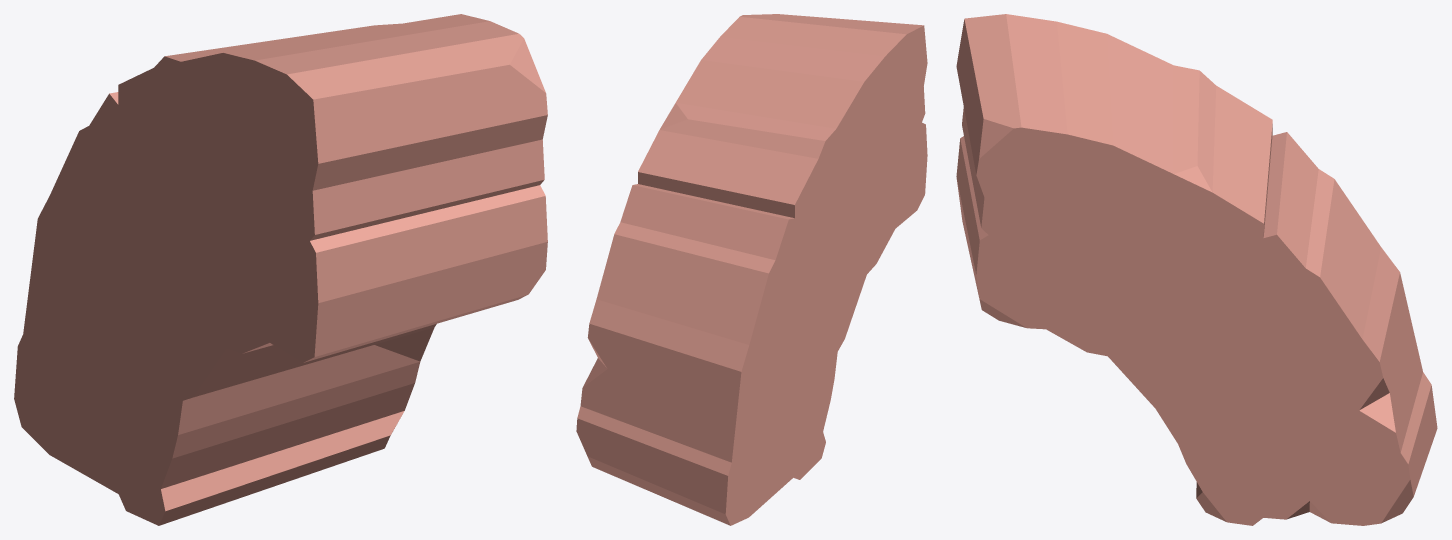
Rendered from SuperGrid_RingQuarter_016_Vlad.fbx.
The picture shows the model from 3 angles, left to right: view 1: azimuth 30°, elevation 25°; view 2: azimuth 150°, elevation 25°; view 3: azimuth 270°, elevation 25°; orthographic projection. The views are drawn at different scales.
Parts seen in each view (by area): view 1: SuperGrid_RingQuarter.016; view 2: SuperGrid_RingQuarter.016; view 3: SuperGrid_RingQuarter.016.
Part boxes in pixels (x1=…): SuperGrid_RingQuarter.016: x1=14, y1=14, x2=547, y2=525; SuperGrid_RingQuarter.016: x1=576, y1=14, x2=927, y2=525; SuperGrid_RingQuarter.016: x1=956, y1=14, x2=1437, y2=525.
Bounding box in the file's own units: 10000 × 21869 × 21757.
